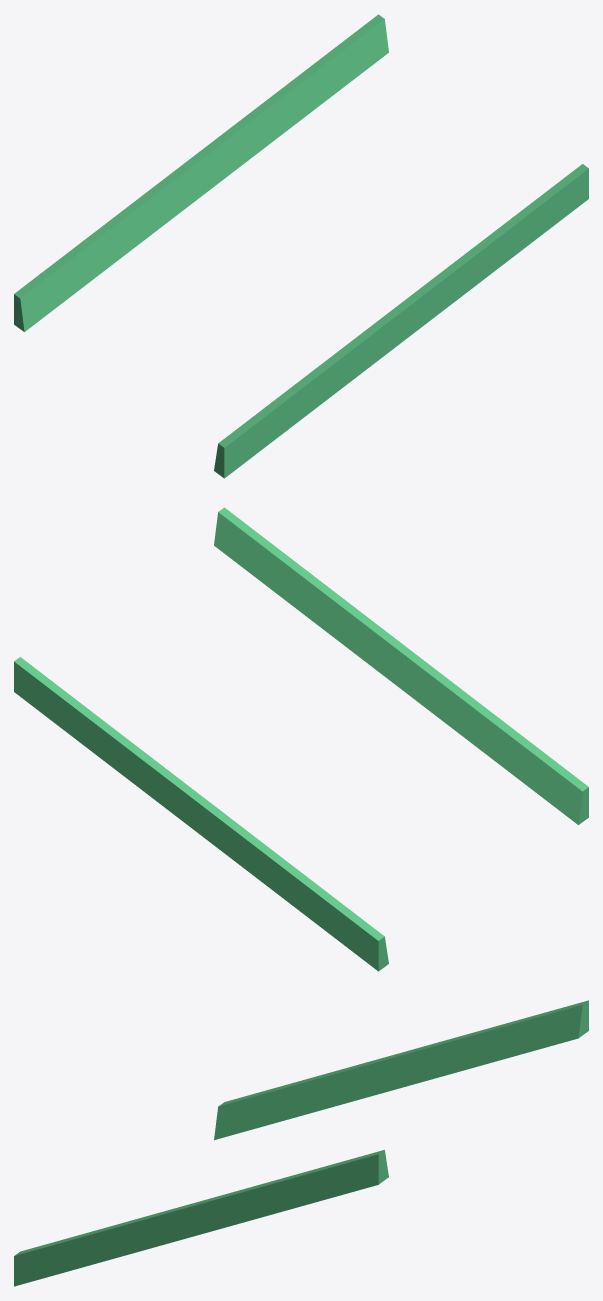
Rendered from road_slant_high_barrier.glb.
3 views of the same model, one above another, from view 1: azimuth 30°, elevation 25°; view 2: azimuth 150°, elevation 25°; view 3: azimuth 330°, elevation 25° (orthographic).
Parts seen in each view (by area): view 1: road-slant-high-barrier; view 2: road-slant-high-barrier; view 3: road-slant-high-barrier.
Part boxes in pixels (box(x1,y1,x2,y2)): road-slant-high-barrier: box(14, 14, 588, 478); road-slant-high-barrier: box(14, 507, 588, 971); road-slant-high-barrier: box(14, 1000, 588, 1286).
Size of the model in its own units: 1 by 0.58 by 1.
1 material, 1 textured.
